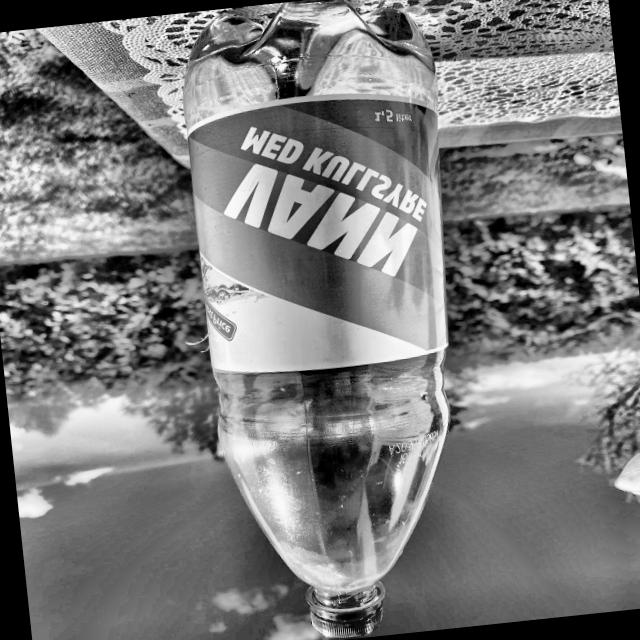waterbottle: (160, 0, 508, 640)
